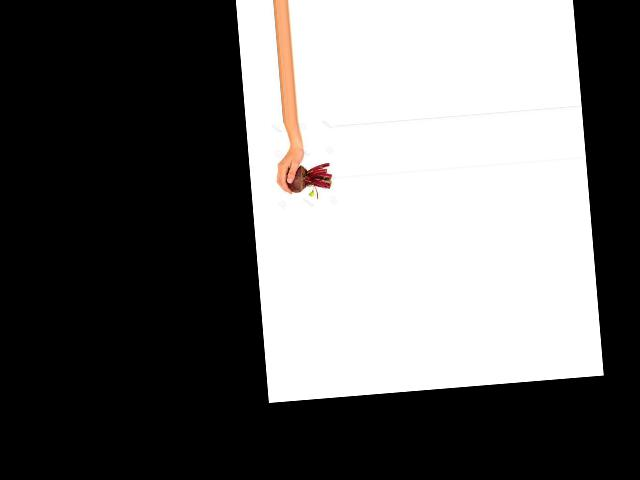beet: (284, 163, 333, 202)
